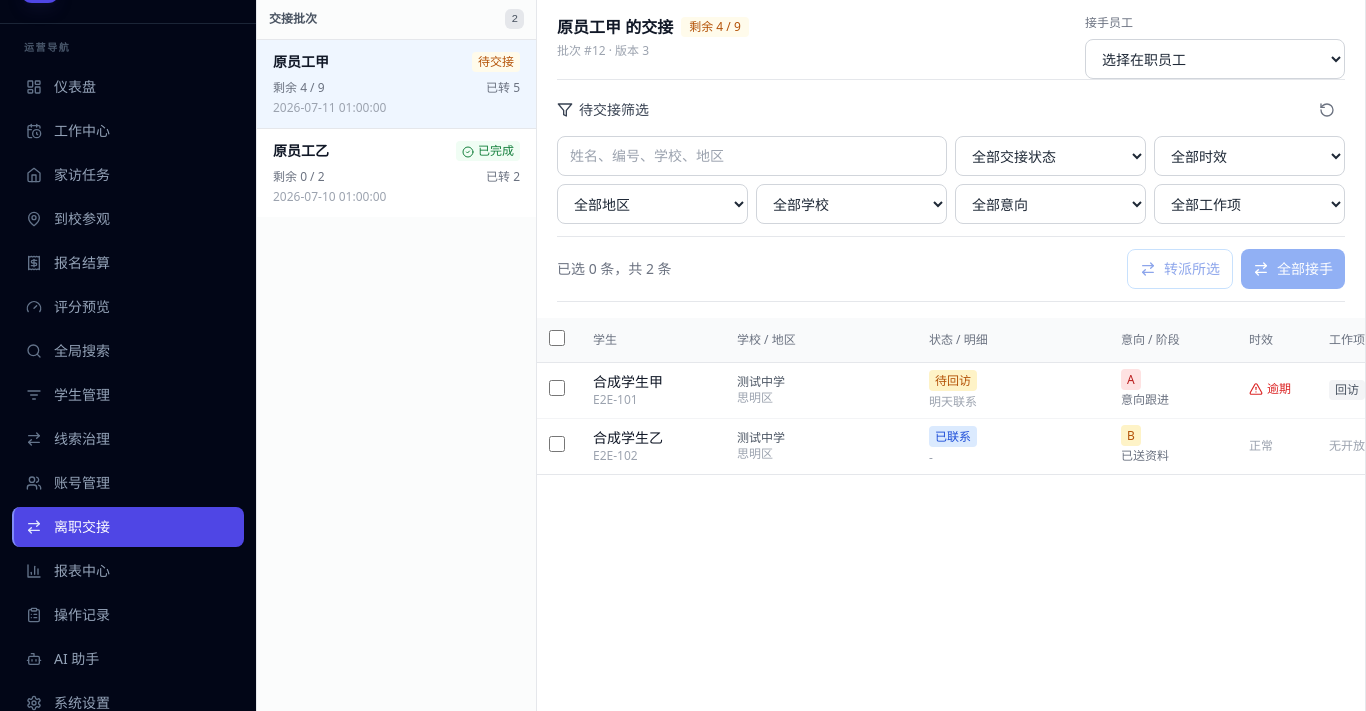
Test: HandoverCenter › renders batch progress and writes a selected batch to the URL
The width and height of the screenshot is (1366, 711).
Expected: the text "原员工甲" is shown, x1=273 y1=52 x2=329 y2=72
Expected: the text "剩余 4 / 9" is shown 2 times, x1=273 y1=80 x2=325 y2=96; x1=681 y1=17 x2=749 y2=37
Click the button "原员工乙 已完成 剩余 0 / 2 已转 2 2026-07-10 01:00:00" at [301, 150], box x1=257 y1=128 x2=536 y2=217
(page scrolled)
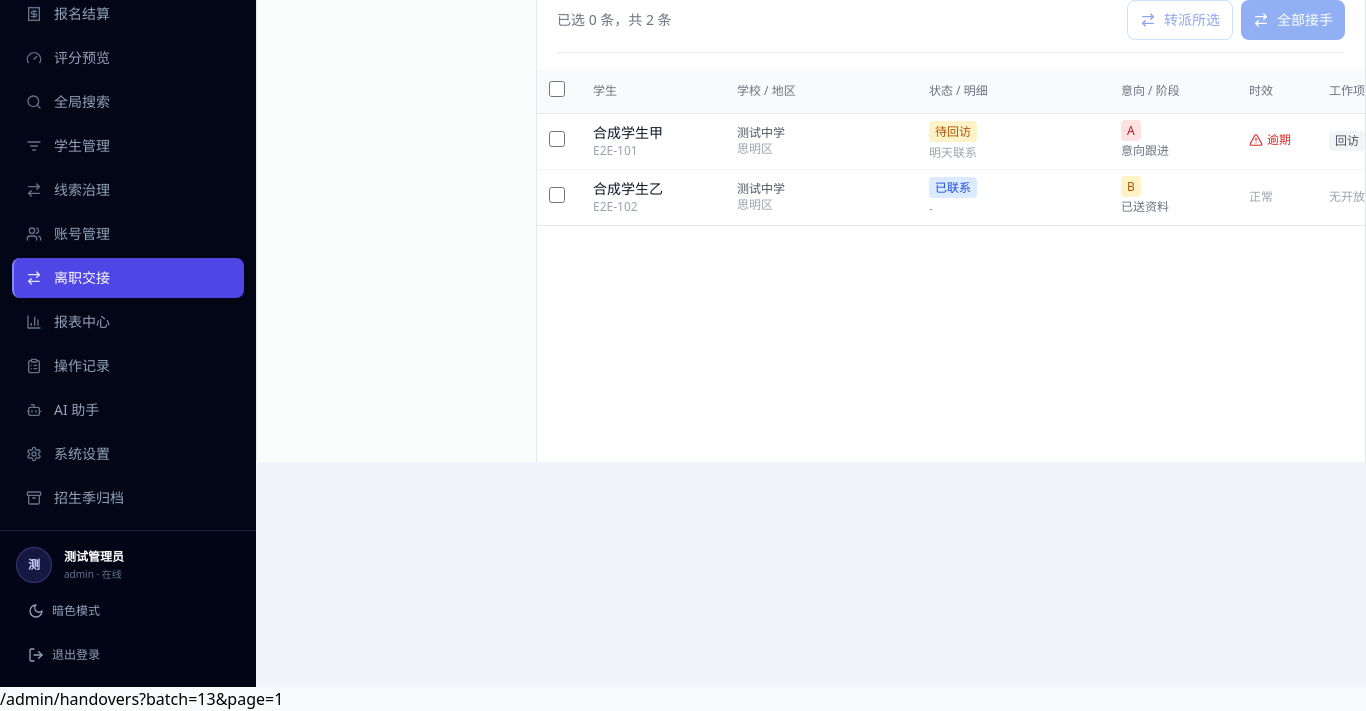
Result: the text with test id "location" reads "/admin/handovers?batch=13&page=1" at x1=0 y1=688 x2=283 y2=710
